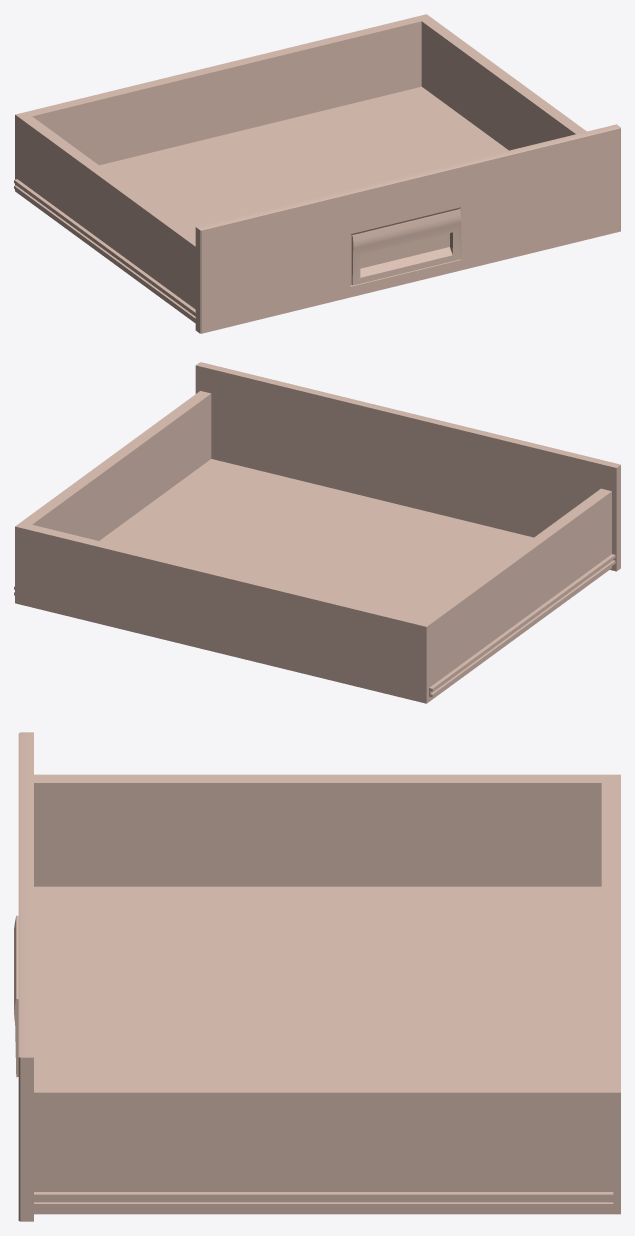
The model's file is Medical_Cart03_Drawer01.fbx.
3 renders of one model, top to bottom at view 1: azimuth 30°, elevation 25°; view 2: azimuth 150°, elevation 25°; view 3: azimuth 270°, elevation 25°, orthographic. The views are drawn at different scales.
Parts seen in each view (by area): view 1: SM_Medical_Cart03_Drawer01; view 2: SM_Medical_Cart03_Drawer01; view 3: SM_Medical_Cart03_Drawer01.
Boxes of the visible parts, x1,y1,x2,y2 form: SM_Medical_Cart03_Drawer01: (14, 14, 620, 333); SM_Medical_Cart03_Drawer01: (14, 362, 620, 703); SM_Medical_Cart03_Drawer01: (14, 732, 620, 1221).
Size of the model in its own units: 0.5131 by 0.1206 by 0.4047.
